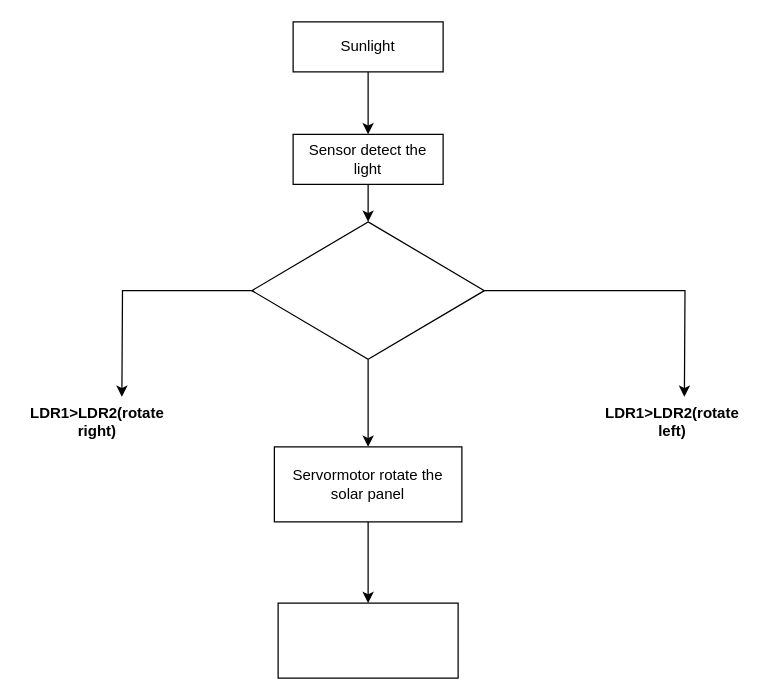
Image size: 768x700. Some labels were removed from this diagram. Each missing label, with the centre of its shape:
AVR Microcontroller compares the intensity of light: point 367,290
LCD show the direction of solar panel: point 367,640
